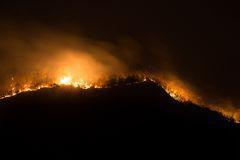fire: (44, 64, 111, 89), (167, 79, 196, 102), (216, 103, 237, 121)
